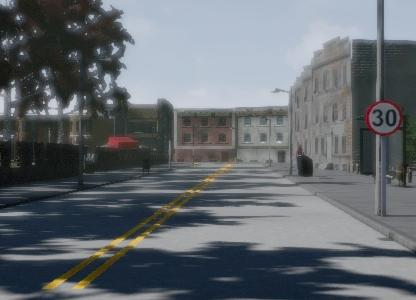Speed_30: (363, 95, 404, 136)
